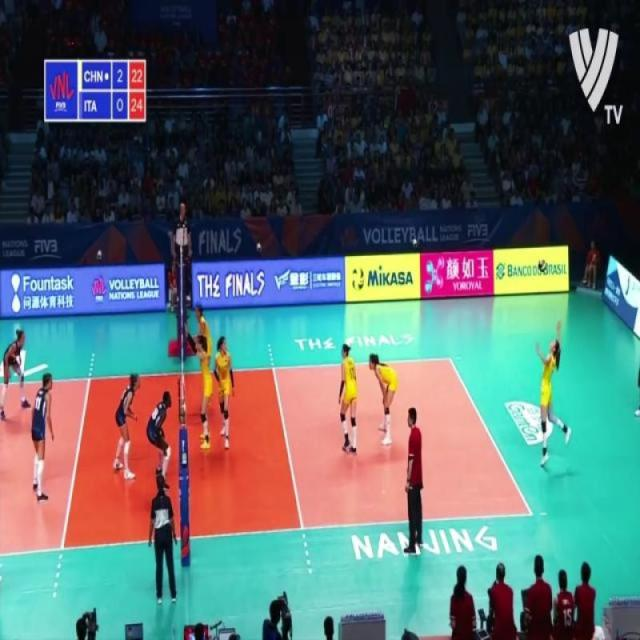volleyball: (351, 266, 366, 292), (538, 258, 547, 274)
